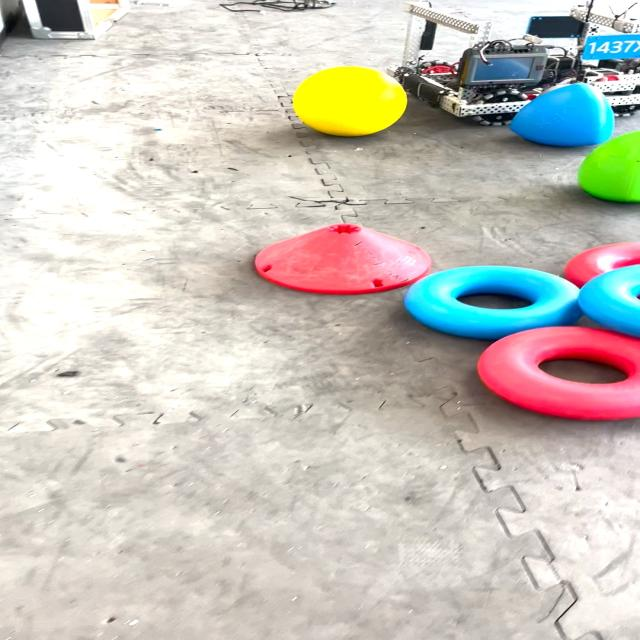Blue-Ring: (404, 266, 582, 340), (578, 265, 640, 337)
Red-Ring: (478, 326, 640, 420), (564, 242, 640, 288)
